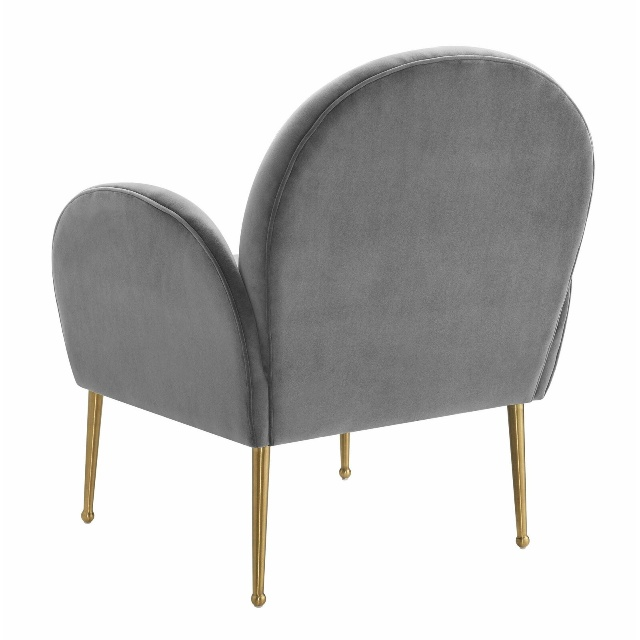obstacle: (52, 47, 593, 606)
